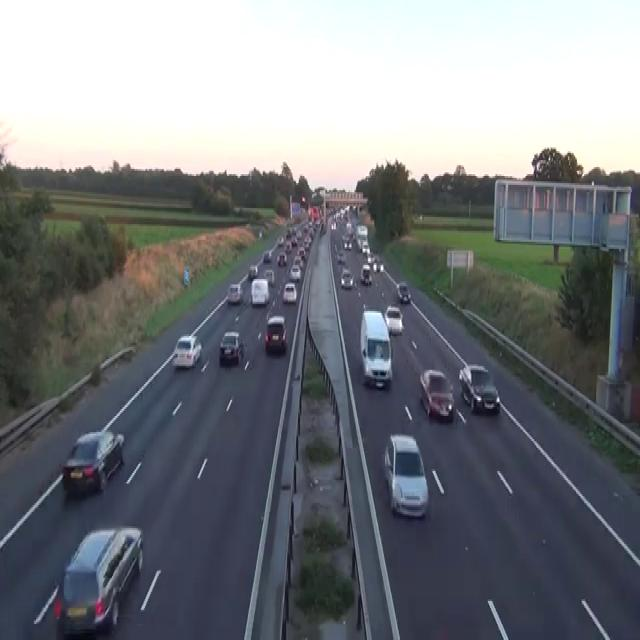Car: (53, 524, 143, 636), (61, 428, 124, 496), (383, 434, 429, 517), (458, 363, 500, 414), (419, 368, 454, 421), (171, 334, 202, 368), (219, 330, 244, 364), (265, 315, 287, 352), (384, 304, 404, 334), (250, 277, 269, 306), (227, 283, 243, 304), (396, 281, 411, 302), (282, 281, 297, 302), (340, 268, 354, 288), (360, 263, 371, 285), (289, 265, 301, 281), (264, 268, 274, 286), (310, 192, 323, 204), (248, 265, 258, 279), (277, 252, 287, 266), (373, 260, 383, 272), (303, 236, 311, 249), (263, 251, 271, 263), (337, 251, 345, 263), (346, 222, 353, 235), (293, 254, 301, 265), (343, 240, 352, 249), (361, 242, 369, 252), (320, 222, 326, 235), (285, 240, 291, 252), (367, 251, 373, 263), (277, 235, 284, 245), (290, 235, 297, 245), (330, 220, 336, 230), (285, 228, 291, 238), (446, 183, 454, 190), (302, 222, 308, 231), (301, 196, 306, 206), (296, 230, 302, 238), (258, 230, 262, 238)
Truck: (359, 310, 392, 388)
